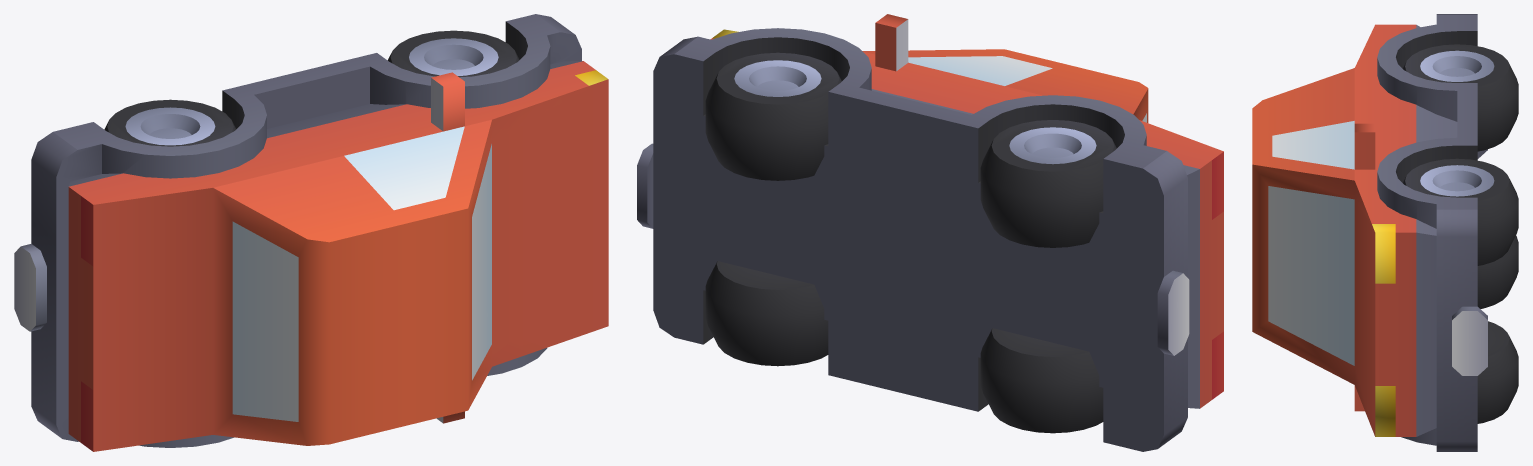
File: sedan.glb
The picture shows the model from 3 angles, left to right: view 1: azimuth 30°, elevation 25°; view 2: azimuth 150°, elevation 25°; view 3: azimuth 270°, elevation 25°; orthographic projection. The views are drawn at different scales.
Parts seen in each view (by area): view 1: body, wheel-back-left, wheel-front-left; view 2: body, wheel-front-left, wheel-back-left, wheel-back-right, wheel-front-right; view 3: body, wheel-front-left, wheel-back-left, wheel-front-right, wheel-back-right.
Boxes of the visible parts, x1,y1,x2,y2 form: body: [14, 14, 608, 451]; wheel-back-left: [104, 99, 236, 146]; wheel-front-left: [387, 30, 519, 77]; body: [637, 14, 1223, 451]; wheel-front-left: [705, 52, 841, 180]; wheel-back-left: [980, 120, 1116, 247]; wheel-back-right: [980, 328, 1103, 433]; wheel-front-right: [705, 261, 828, 366]; body: [1252, 14, 1487, 451]; wheel-front-left: [1403, 158, 1518, 265]; wheel-back-left: [1402, 44, 1518, 151]; wheel-front-right: [1477, 321, 1518, 423]; wheel-back-right: [1477, 235, 1518, 308].
Bounding box in the file's own units: 2.55 × 1.5 × 1.3.
1 material, 1 textured.
